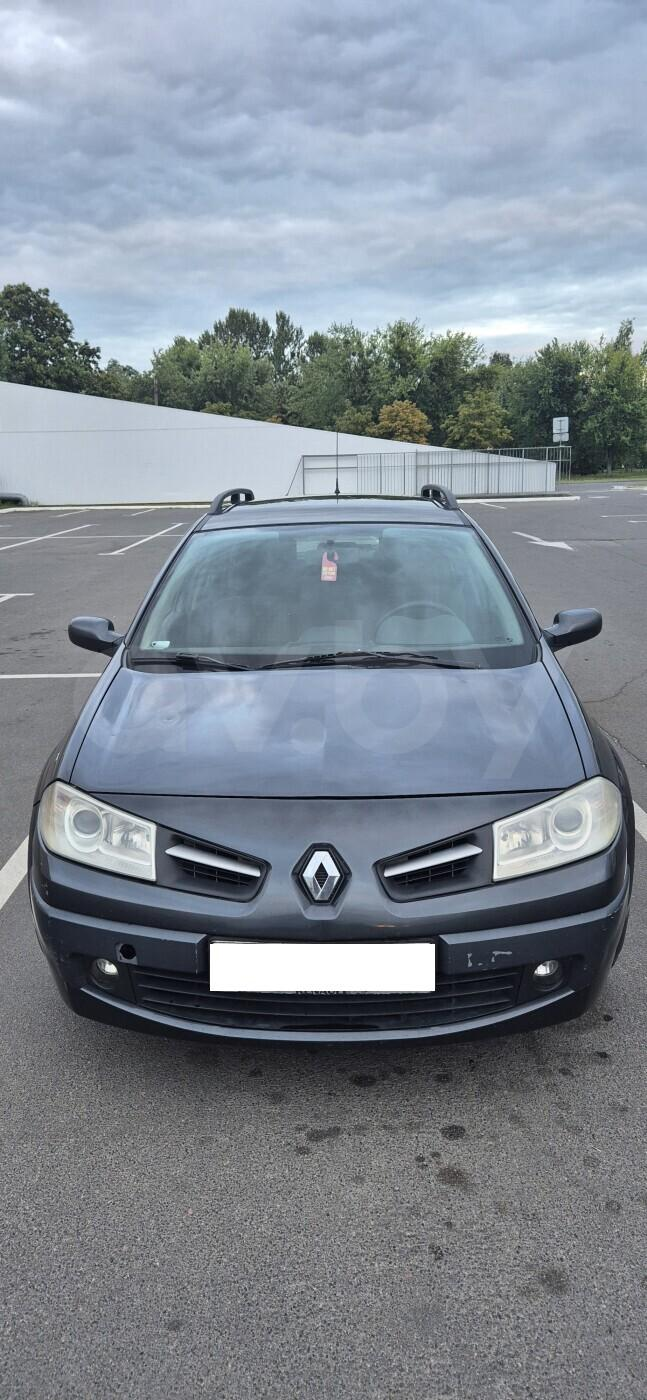Megane_2005-2009: (30, 474, 632, 1076)
